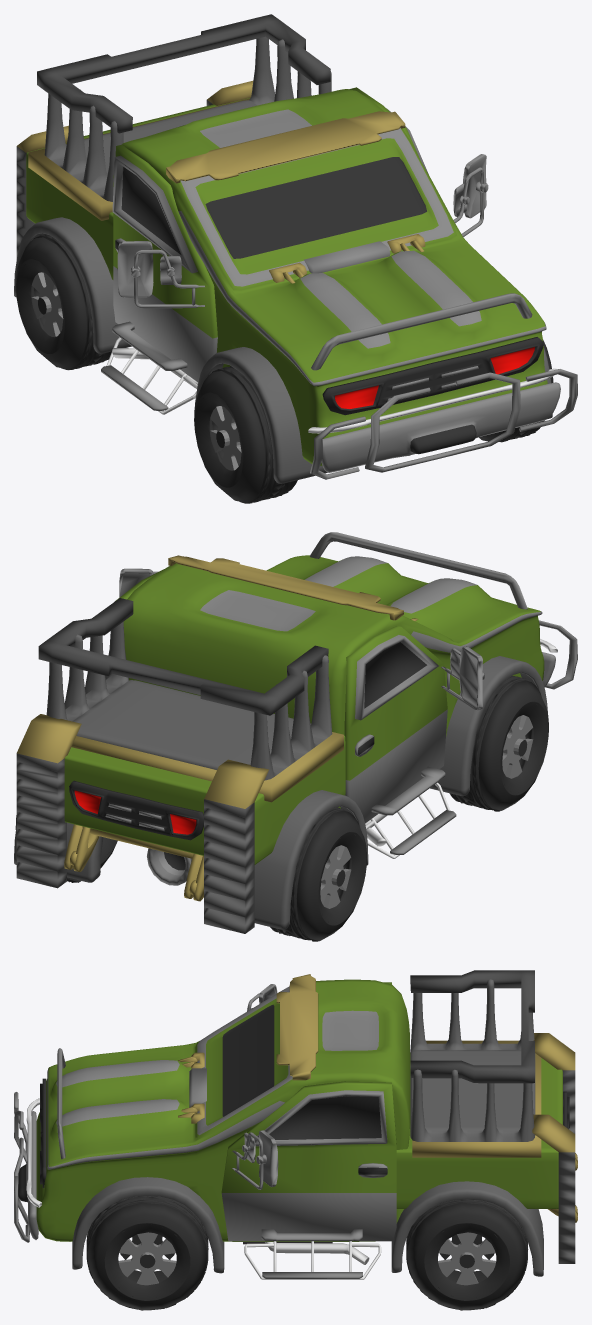
Rendered from Car_1.fbx.
3 views of the same model, one above another, from view 1: azimuth 30°, elevation 25°; view 2: azimuth 150°, elevation 25°; view 3: azimuth 270°, elevation 25° (orthographic). The views are drawn at different scales.
Parts seen in each view (by area): view 1: Plane; view 2: Plane; view 3: Plane.
Part boxes in pixels (x1,y1,x2,y2): Plane: (14, 14, 577, 503); Plane: (14, 532, 577, 941); Plane: (14, 970, 577, 1310).
Bounding box in the file's own units: 371 × 252 × 559.
